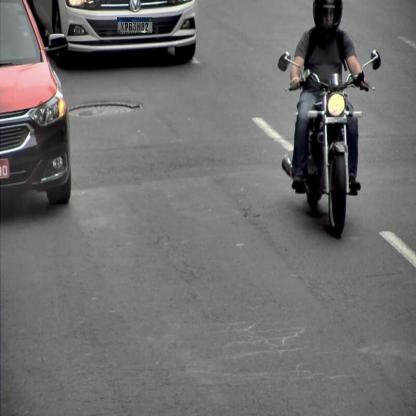PlacaM: (117, 18, 153, 34)
